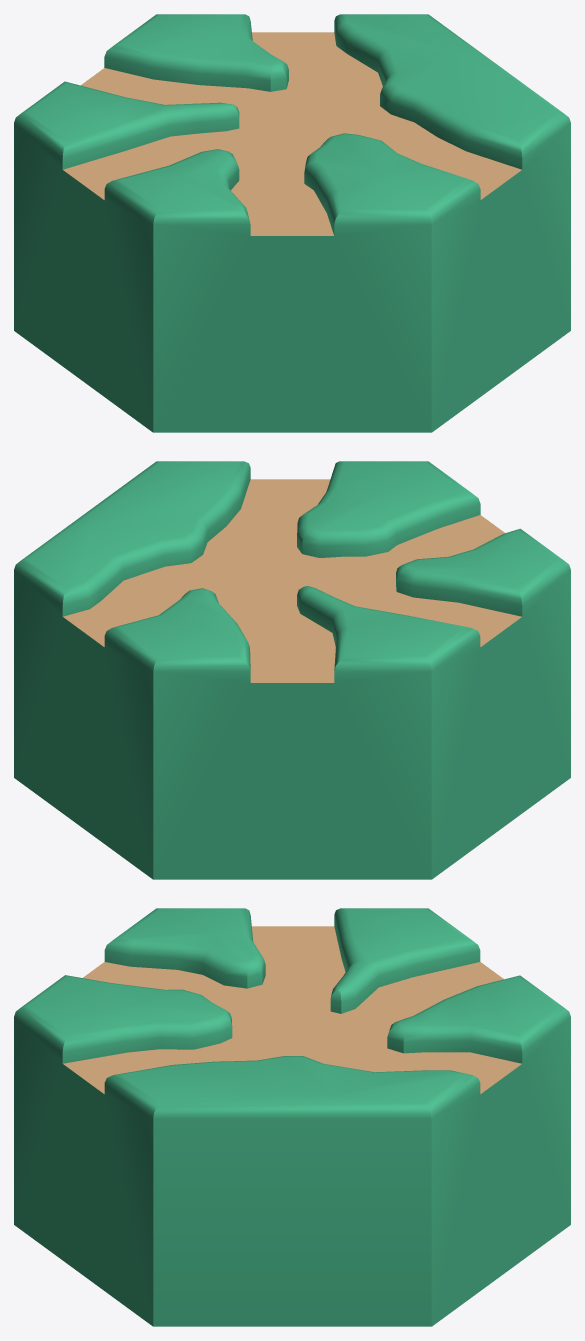
Rendered from hex_forest_roadl.glb.
3 renders of one model, top to bottom at view 1: azimuth 30°, elevation 25°; view 2: azimuth 150°, elevation 25°; view 3: azimuth 270°, elevation 25°, orthographic.
Parts seen in each view (by area): view 1: hex_forest_roadL; view 2: hex_forest_roadL; view 3: hex_forest_roadL.
Boxes of the visible parts, box(x1,y1,x2,y2) form: hex_forest_roadL: box(14, 14, 570, 432); hex_forest_roadL: box(14, 461, 570, 879); hex_forest_roadL: box(14, 908, 570, 1326).
Bounding box in the file's own units: 8 × 4 × 9.24.
